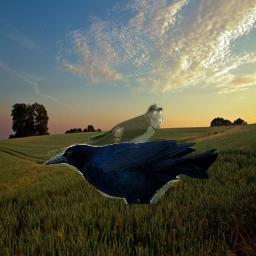Crow: (43, 139, 218, 204)
Cuckoo: (47, 103, 163, 156)
